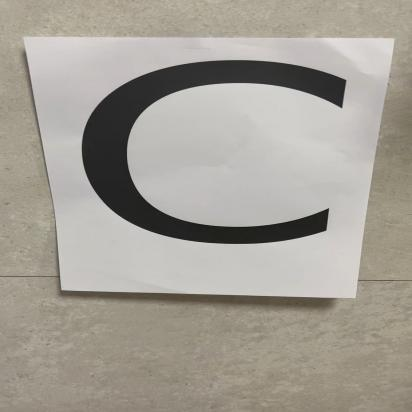seat: (46, 43, 345, 303)
